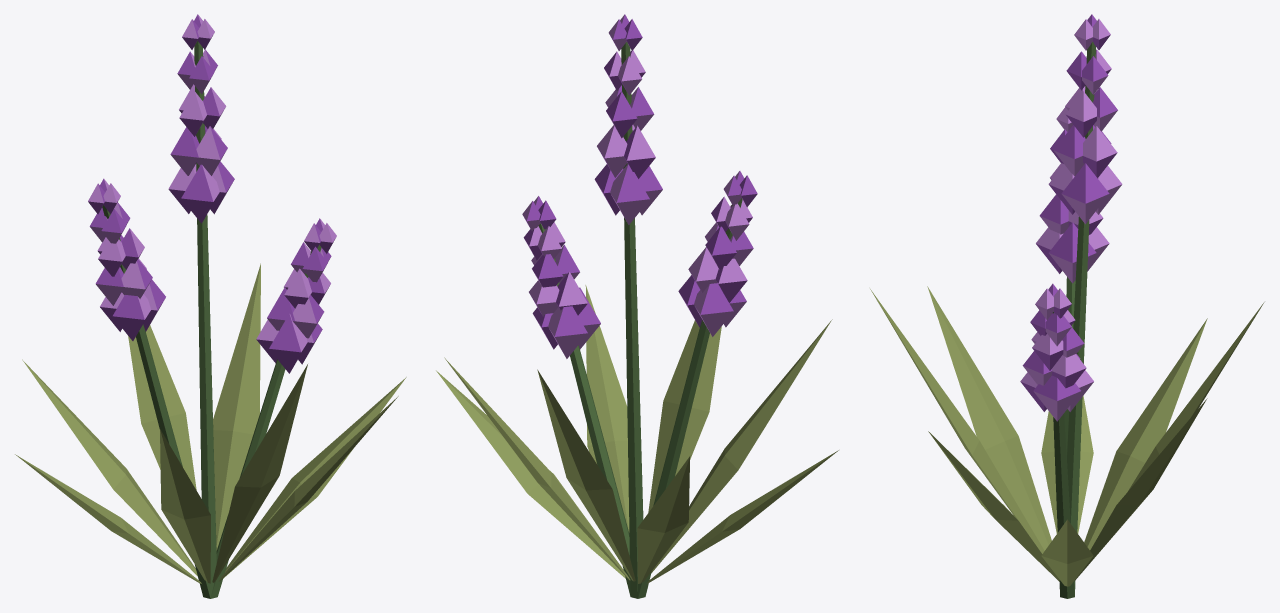
File: SM_Flowers_Prototype.fbx
The picture shows the model from 3 angles, left to right: view 1: azimuth 30°, elevation 25°; view 2: azimuth 150°, elevation 25°; view 3: azimuth 270°, elevation 25°; orthographic projection. The views are drawn at different scales.
Visible parts, largest first — view 1: SM_Flowers_Prototype; view 2: SM_Flowers_Prototype; view 3: SM_Flowers_Prototype.
Part boxes in pixels (<box>): SM_Flowers_Prototype: <box>15,14,406,598</box>; SM_Flowers_Prototype: <box>436,14,838,598</box>; SM_Flowers_Prototype: <box>870,14,1264,598</box>.
Bounding box in the file's own units: 65 × 90 × 56.
